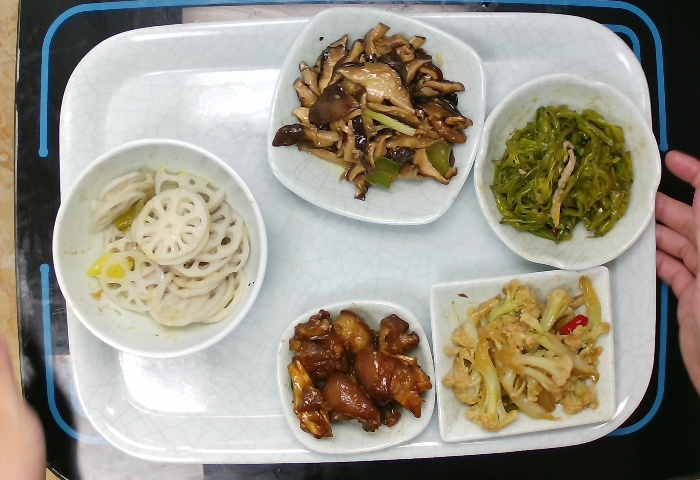JYsf-Ao_Yuan_Wan: (469, 70, 663, 278)
JYsf-Fan_Wan: (49, 134, 272, 360)
JYsf-Si_Fang_Die: (272, 297, 441, 458)
WCQzf-Da_Si_Fang_Die: (263, 3, 488, 233)
WCQzf-Ru_Ci_Si_Fang_Die: (428, 265, 619, 444)
